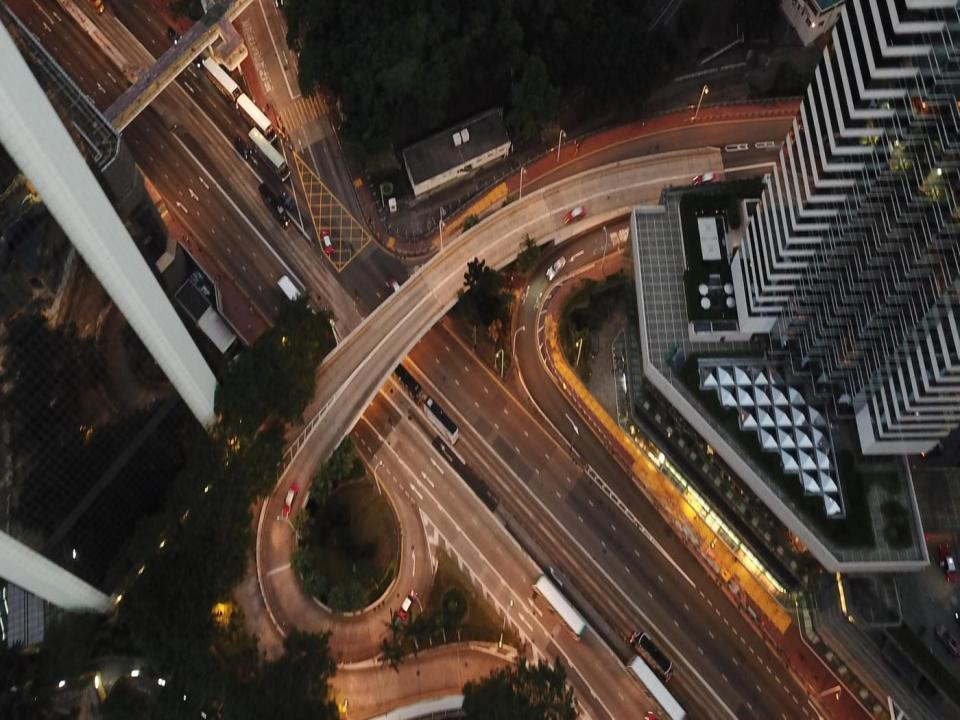bus: (626, 654, 687, 719), (532, 574, 587, 641), (248, 127, 291, 182), (631, 630, 674, 682), (236, 93, 276, 143), (202, 56, 242, 102), (423, 396, 459, 445), (385, 360, 423, 405), (259, 183, 290, 228), (276, 275, 306, 310), (234, 136, 252, 159), (87, 0, 105, 15)
car: (935, 623, 960, 658), (938, 544, 957, 581), (282, 481, 298, 518), (398, 590, 417, 620), (563, 206, 586, 223), (389, 279, 406, 298), (165, 26, 182, 44), (694, 172, 718, 184), (322, 228, 333, 252), (280, 191, 294, 209), (189, 53, 204, 68)
van: (546, 256, 566, 280)
